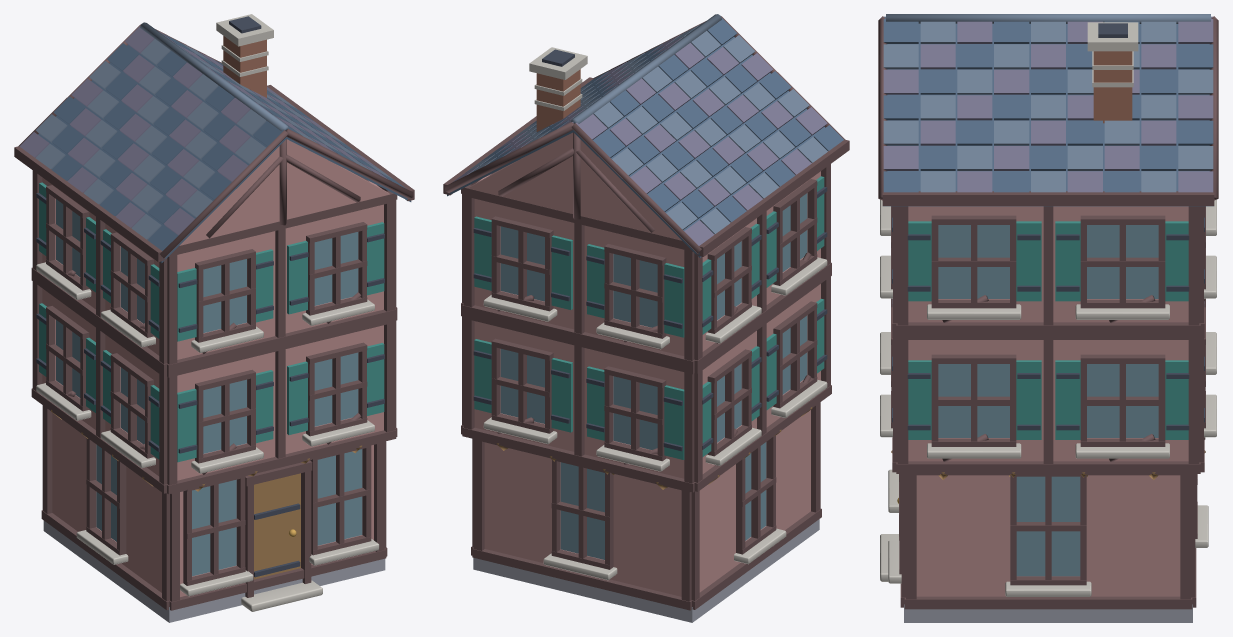
Rendered from house_D.glb.
The picture shows the model from 3 angles, left to right: view 1: azimuth 30°, elevation 25°; view 2: azimuth 150°, elevation 25°; view 3: azimuth 270°, elevation 25°; orthographic projection. The views are drawn at different scales.
Visible parts, largest first — view 1: house_D_gable_infill, house_D_front_oak_door, house_D_stone_footing, house_D_left_wall.006, house_D_left_wall.001, glass_house_D_front_floor0_window0, glass_house_D_front_floor0_window1, house_D_front_beam.002, house_D_thick_slate_slope, house_D_front_beam.004, house_D_front_beam, house_D_eave_fascia (+102 smaller); view 2: house_D_gable_infill.001, house_D_back_wall.006, house_D_back_wall.001, house_D_stone_footing, house_D_left_wall.001, house_D_left_wall.006, glass_house_D_back_floor0_window0, house_D_back_beam.002, house_D_thick_slate_slope, house_D_back_beam, house_D_eave_fascia, house_D_back_beam.003 (+98 smaller); view 3: house_D_right_wall.006, house_D_right_wall.001, glass_house_D_right_floor0_window0, house_D_thick_slate_slope.001, house_D_eave_fascia.001, glass_house_D_right_floor2_window0, glass_house_D_right_floor2_window1, glass_house_D_right_floor1_window0, glass_house_D_right_floor1_window1, house_D_stone_footing, house_D_right_beam, house_D_right_beam.002 (+147 smaller).
Part boxes in pixels (bbox=[...]): house_D_gable_infill: bbox=[179, 139, 389, 245]; house_D_front_oak_door: bbox=[254, 473, 300, 579]; house_D_stone_footing: bbox=[43, 520, 385, 622]; house_D_left_wall.006: bbox=[126, 466, 161, 575]; house_D_left_wall.001: bbox=[52, 413, 96, 526]; glass_house_D_front_floor0_window0: bbox=[192, 479, 236, 576]; glass_house_D_front_floor0_window1: bbox=[317, 449, 362, 545]; house_D_front_beam.002: bbox=[166, 430, 396, 494]; house_D_thick_slate_slope: bbox=[38, 45, 286, 262]; house_D_front_beam.004: bbox=[166, 309, 396, 372]; house_D_front_beam: bbox=[169, 549, 386, 610]; house_D_eave_fascia: bbox=[14, 146, 165, 261]; house_D_gable_infill.001: bbox=[468, 132, 681, 240]; house_D_back_wall.006: bbox=[613, 474, 681, 578]; house_D_back_wall.001: bbox=[484, 442, 560, 549]; house_D_stone_footing: bbox=[473, 519, 819, 622]; house_D_left_wall.001: bbox=[699, 464, 735, 574]; house_D_left_wall.006: bbox=[766, 411, 810, 525]; glass_house_D_back_floor0_window0: bbox=[560, 462, 604, 559]; house_D_back_beam.002: bbox=[462, 427, 694, 492]; house_D_thick_slate_slope: bbox=[573, 37, 825, 257]; house_D_back_beam: bbox=[472, 548, 691, 610]; house_D_eave_fascia: bbox=[696, 139, 849, 256]; house_D_back_beam.003: bbox=[462, 309, 694, 374]; house_D_right_wall.006: bbox=[1086, 475, 1180, 576]; house_D_right_wall.001: bbox=[920, 475, 1010, 576]; glass_house_D_right_floor0_window0: bbox=[1016, 476, 1080, 576]; house_D_thick_slate_slope.001: bbox=[883, 24, 1213, 206]; house_D_eave_fascia.001: bbox=[882, 191, 1214, 205]; glass_house_D_right_floor2_window0: bbox=[938, 225, 1009, 298]; glass_house_D_right_floor2_window1: bbox=[1087, 225, 1158, 298]; glass_house_D_right_floor1_window0: bbox=[938, 364, 1009, 437]; glass_house_D_right_floor1_window1: bbox=[1087, 364, 1158, 437]; house_D_stone_footing: bbox=[904, 604, 1192, 622]; house_D_right_beam: bbox=[904, 596, 1192, 609]; house_D_right_beam.002: bbox=[896, 461, 1200, 473].
Size of the model in its own units: 4.83 by 8.86 by 4.83.
